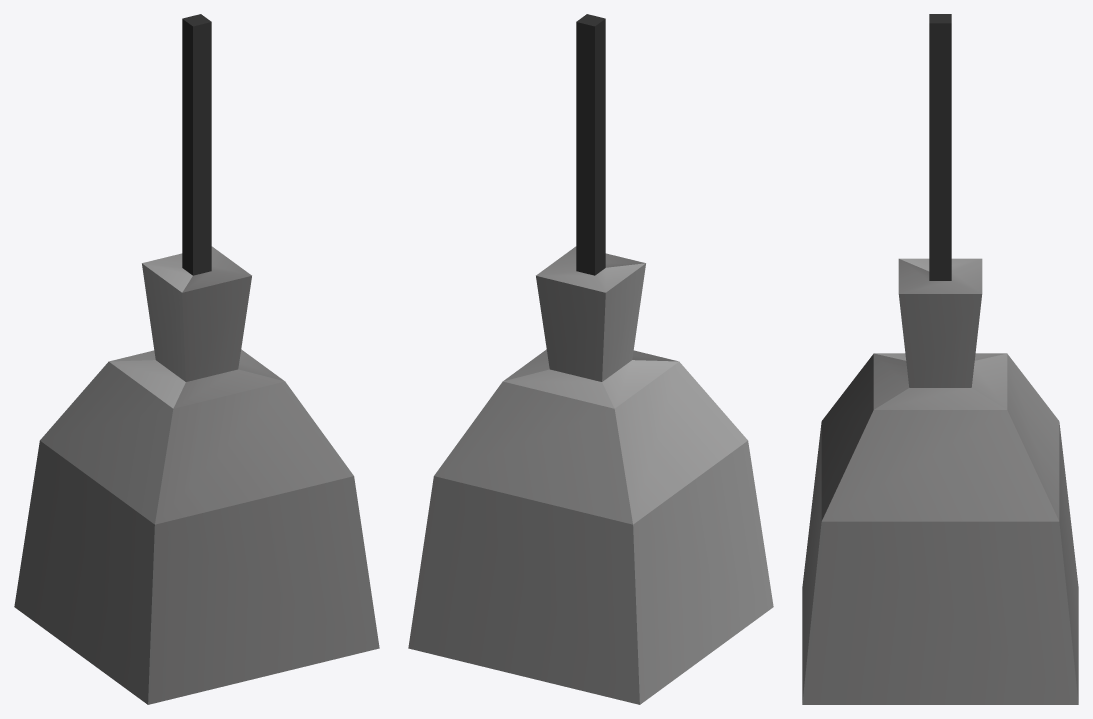
Rendered from B01_Lampe plafond.fbx.
3 views of the same model, side by side, from view 1: azimuth 30°, elevation 25°; view 2: azimuth 150°, elevation 25°; view 3: azimuth 270°, elevation 25° (orthographic). The views are drawn at different scales.
Parts seen in each view (by area): view 1: B01_Lampe plafond; view 2: B01_Lampe plafond; view 3: B01_Lampe plafond.
Boxes of the visible parts, x1,y1,x2,y2 form: B01_Lampe plafond: (14,14,379,704); B01_Lampe plafond: (408,14,773,704); B01_Lampe plafond: (802,14,1078,704).
Bounding box in the file's own units: 47.79 × 124 × 47.79.
